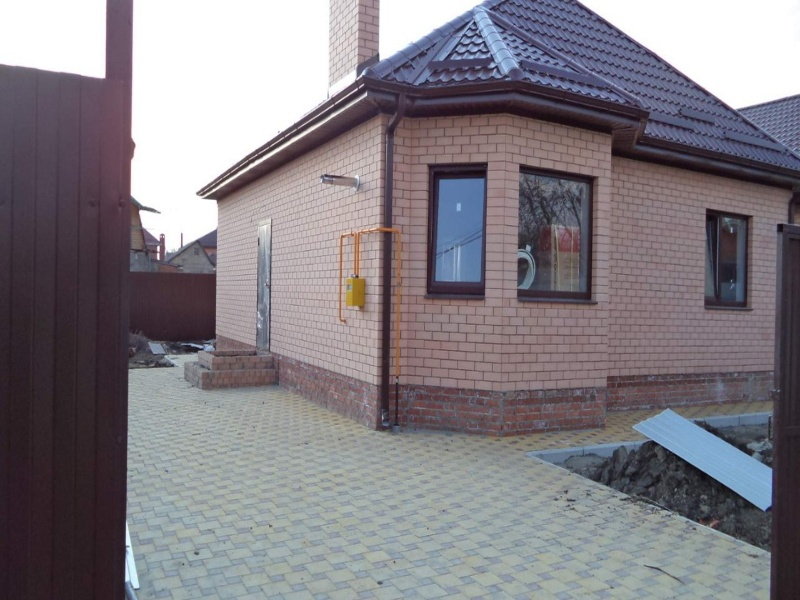window: (519, 162, 596, 300), (422, 154, 483, 293), (702, 204, 753, 316)
